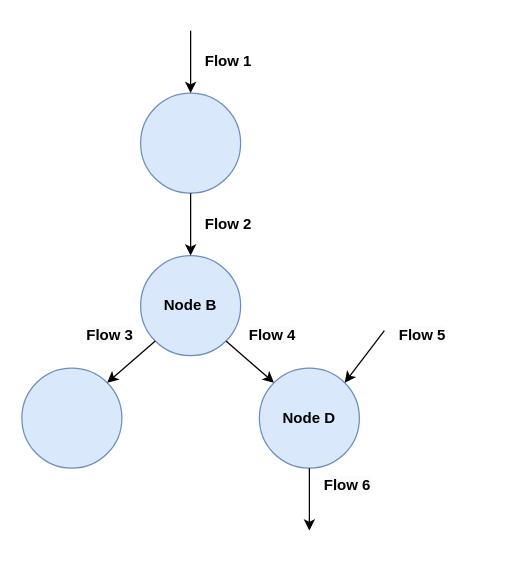
The diagram is 506 pixels wide and 563 high, and some of its shapes have lost their labels. The shapes that lost their labels are listed below. From the top down, each one's box as (x1, y1, x2, y2) in pixels, then its label:
(139, 92, 241, 193): Node A
(21, 367, 122, 468): Node C
